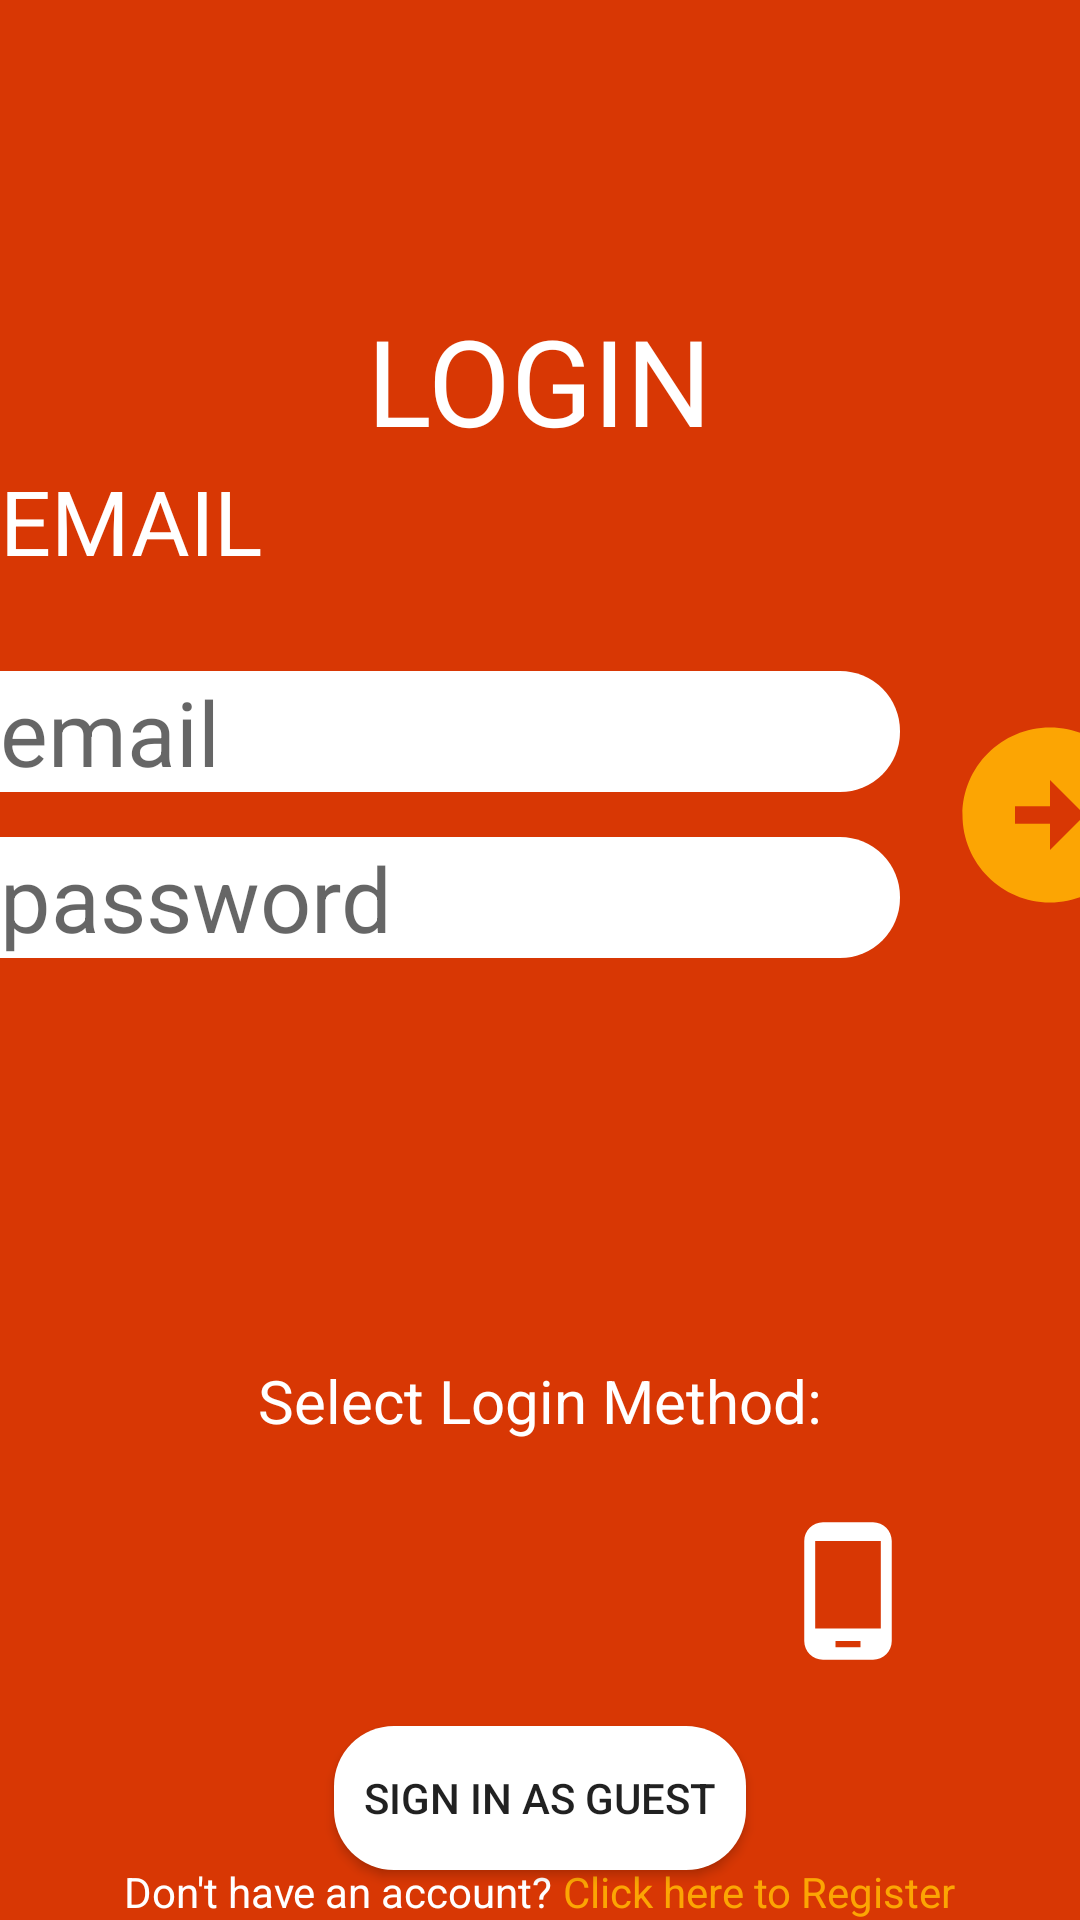

Screen size 1080w x 1920h. Icon name, then its center in pixels as [x,y]:
phone android: [848,1591]
